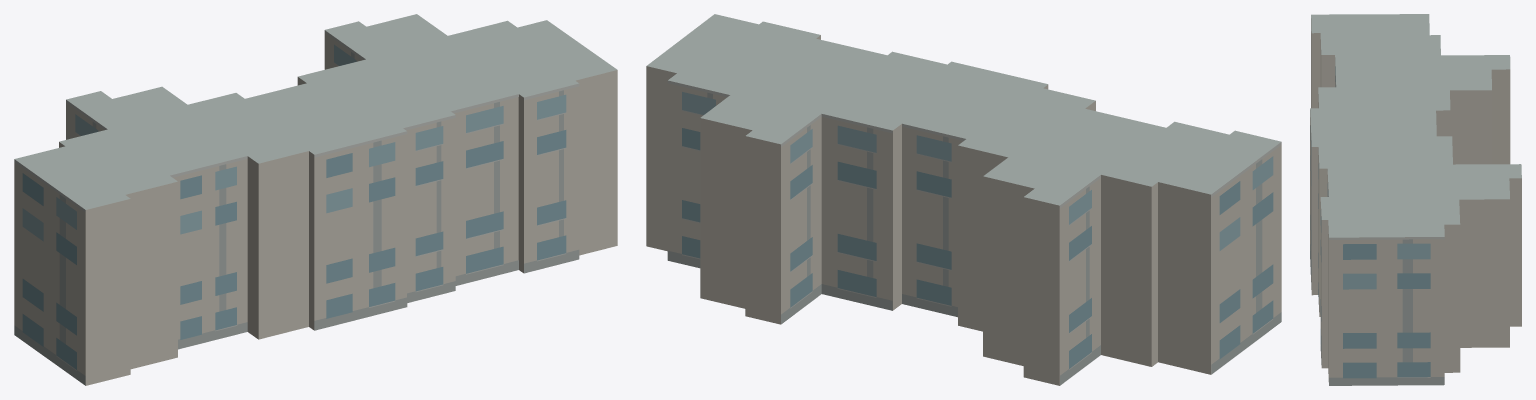
Rendered from residential-25ae60dd-7910-4387-a29a-8bfd601ab2f0.glb.
3 renders of one model, left to right at view 1: azimuth 30°, elevation 25°; view 2: azimuth 150°, elevation 25°; view 3: azimuth 270°, elevation 25°, orthographic. The views are drawn at different scales.
Visible parts, largest first — view 1: residential-25ae60dd-7910-4387-a29a-8bfd601ab2f0.tmp; view 2: residential-25ae60dd-7910-4387-a29a-8bfd601ab2f0.tmp; view 3: residential-25ae60dd-7910-4387-a29a-8bfd601ab2f0.tmp.
Part boxes in pixels (x1,y1,x2,y2): residential-25ae60dd-7910-4387-a29a-8bfd601ab2f0.tmp: (14,14,617,385); residential-25ae60dd-7910-4387-a29a-8bfd601ab2f0.tmp: (646,14,1281,385); residential-25ae60dd-7910-4387-a29a-8bfd601ab2f0.tmp: (1310,14,1521,385).
Size of the model in its own units: 49.36 by 15.25 by 19.75.
